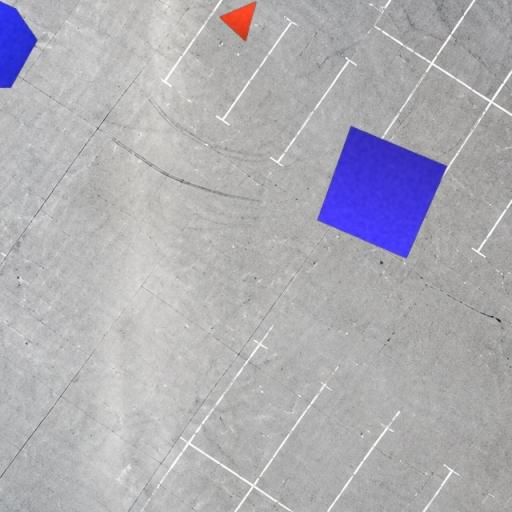BLUE_SQUARE: (317, 126, 448, 259)
